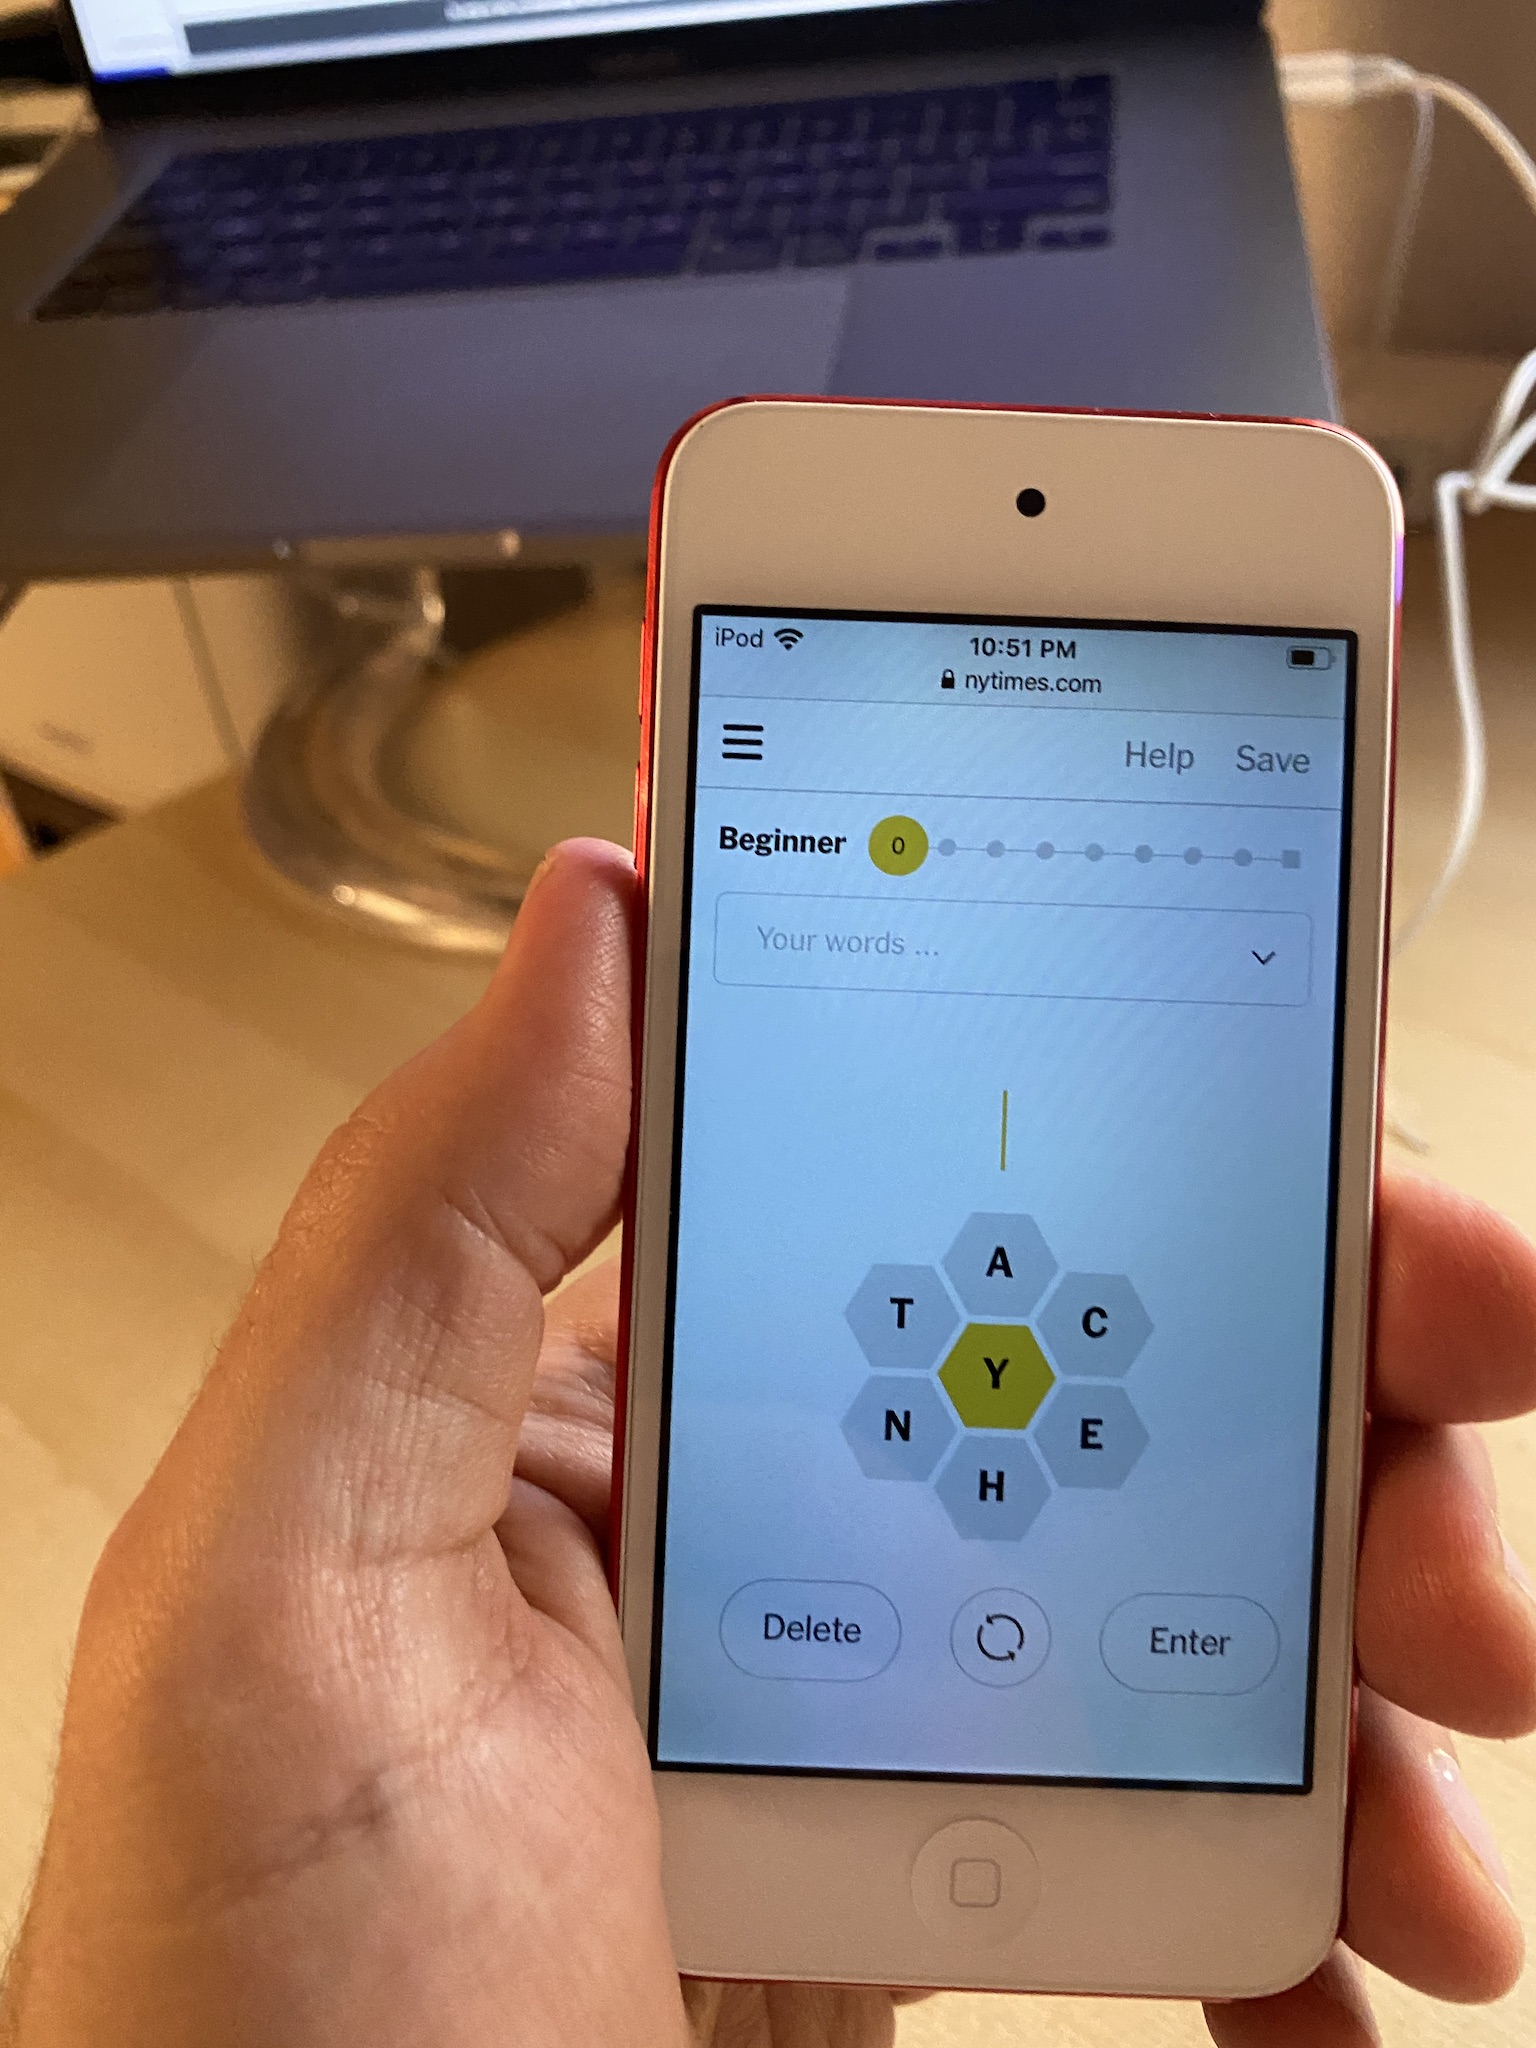Board: (810, 1195, 1179, 1563)
